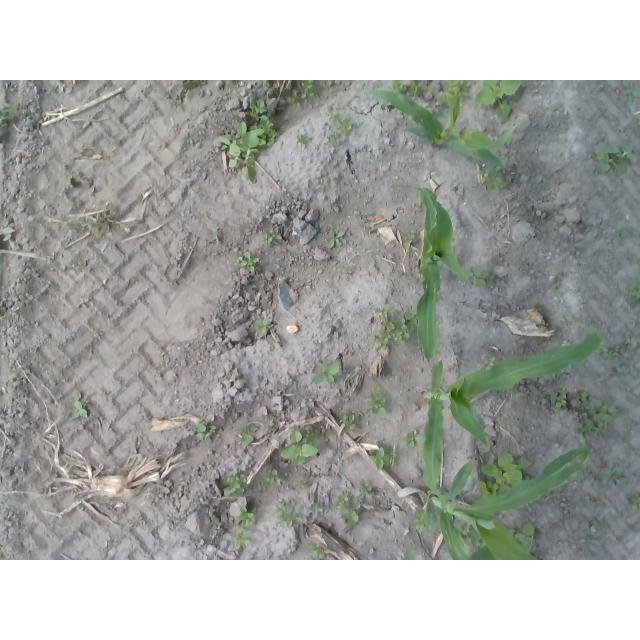Maize: (421, 315, 603, 509), (423, 448, 592, 561), (359, 80, 518, 172), (391, 183, 470, 362), (403, 544, 498, 561)
Weeds: (218, 122, 266, 183), (475, 452, 531, 496), (367, 306, 419, 351), (474, 80, 523, 118), (591, 141, 640, 177), (578, 399, 619, 438), (280, 428, 318, 465), (248, 98, 278, 143), (328, 109, 353, 152), (434, 80, 470, 109), (286, 80, 319, 108), (602, 336, 640, 360), (334, 493, 362, 523), (457, 520, 486, 548), (476, 166, 508, 191), (63, 390, 88, 421), (514, 521, 537, 553), (466, 266, 496, 290), (597, 467, 628, 490), (367, 445, 394, 471), (81, 212, 115, 232), (312, 362, 340, 384), (275, 504, 302, 526), (233, 250, 260, 272), (365, 393, 388, 416), (386, 80, 419, 96), (398, 429, 426, 447), (0, 101, 20, 126), (233, 505, 255, 527), (224, 474, 247, 495), (412, 506, 428, 535), (235, 422, 253, 447), (621, 81, 640, 104), (194, 422, 217, 439), (264, 228, 284, 245), (308, 542, 329, 558), (234, 531, 251, 550), (328, 230, 345, 249), (262, 468, 282, 484), (340, 411, 356, 429), (547, 393, 567, 407), (628, 279, 640, 301), (574, 390, 590, 406), (591, 519, 609, 532), (628, 491, 640, 510), (295, 133, 309, 148), (255, 320, 270, 334), (616, 230, 633, 242), (182, 81, 200, 92), (402, 229, 416, 243), (306, 504, 322, 515), (483, 356, 495, 370), (76, 260, 87, 271), (211, 228, 219, 241), (592, 500, 605, 508), (295, 479, 305, 489), (551, 102, 562, 111), (525, 383, 535, 391), (632, 119, 640, 129), (268, 414, 276, 423), (621, 433, 631, 440), (550, 282, 558, 290), (166, 92, 175, 97), (240, 378, 249, 383), (0, 315, 6, 321), (0, 544, 2, 561), (263, 81, 269, 84)
